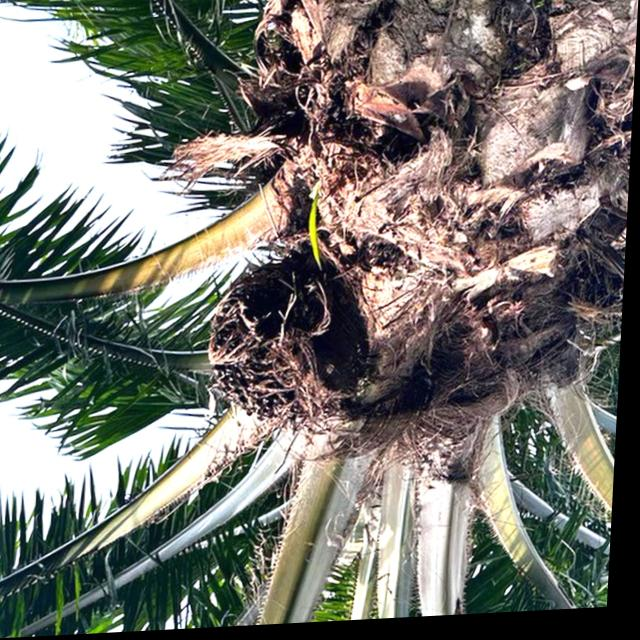unripe: (201, 248, 399, 448)
